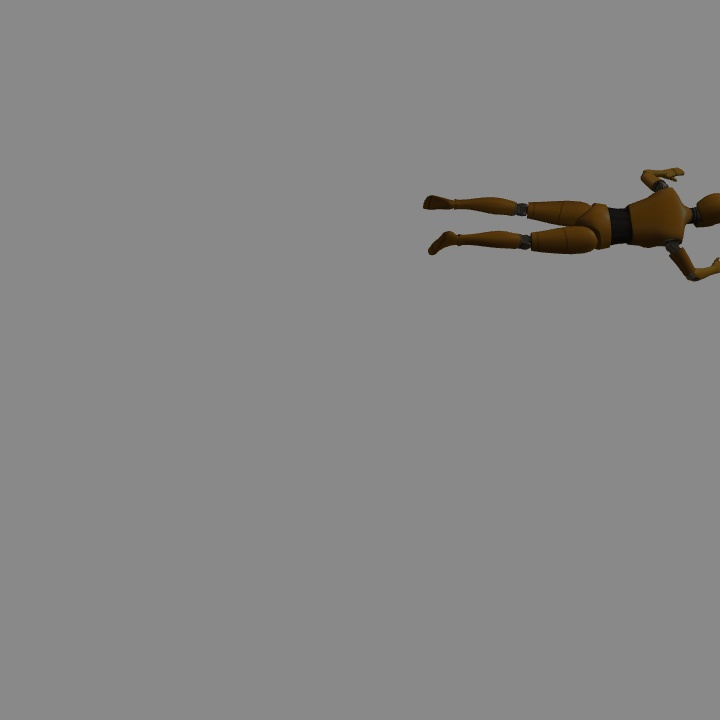victim: (421, 164, 720, 274)
